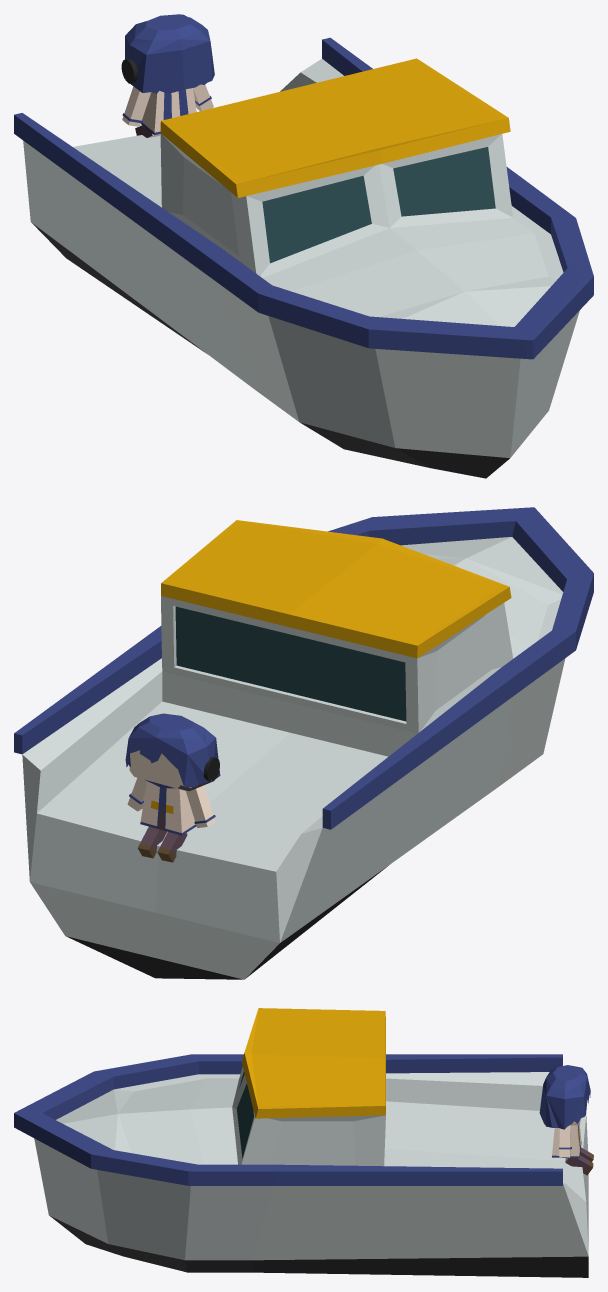
The model's file is littleshipKAITO.glb.
3 views of the same model, one above another, from view 1: azimuth 30°, elevation 25°; view 2: azimuth 150°, elevation 25°; view 3: azimuth 270°, elevation 25° (orthographic). The views are drawn at different scales.
Parts seen in each view (by area): view 1: Cube, 球体, 立方体.010, 立方体.013; view 2: Cube, 球体, 立方体.010, 立方体.003, 立方体.013; view 3: Cube, 球体, 立方体.010.
Boxes of the visible parts, x1,y1,x2,y2 form: Cube: [14, 37, 593, 478]; 球体: [125, 14, 214, 93]; 立方体.010: [141, 88, 196, 135]; 立方体.013: [122, 86, 151, 126]; Cube: [14, 507, 593, 979]; 球体: [125, 713, 220, 787]; 立方体.010: [140, 781, 196, 835]; 立方体.003: [129, 750, 191, 791]; 立方体.013: [186, 785, 215, 827]; Cube: [14, 1008, 588, 1277]; 球体: [539, 1065, 590, 1129]; 立方体.010: [552, 1125, 581, 1158].
Size of the model in its own units: 3.04 by 2.51 by 6.35.
